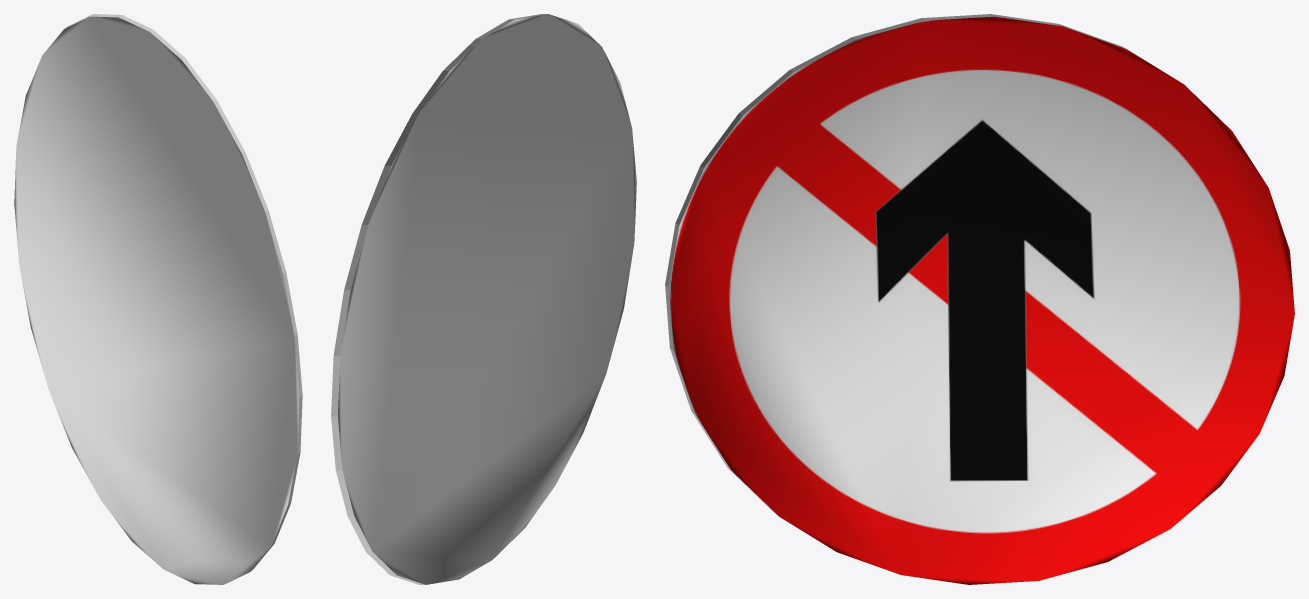
3 views of the same model, side by side, from view 1: azimuth 30°, elevation 25°; view 2: azimuth 150°, elevation 25°; view 3: azimuth 270°, elevation 25° (orthographic). The views are drawn at different scales.
Visible parts, largest first — view 1: model22; view 2: model22; view 3: model22.
Boxes of the visible parts, x1=… form: model22: x1=14, y1=14, x2=302, y2=584; model22: x1=331, y1=14, x2=636, y2=584; model22: x1=665, y1=14, x2=1294, y2=584.
Size of the model in its own units: 0.0278 by 1.19 by 1.19.
Materials: 3 (2 with a texture image).
